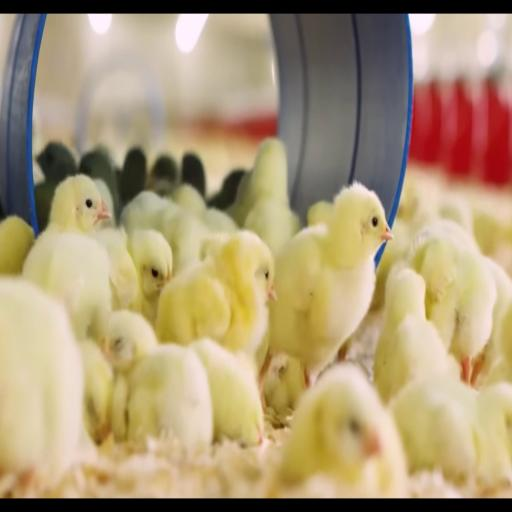chick: (268, 183, 392, 385), (280, 364, 407, 497), (156, 231, 275, 355), (390, 376, 511, 485), (412, 237, 497, 383), (374, 268, 457, 402), (113, 345, 213, 454), (390, 376, 478, 482), (190, 339, 263, 446), (101, 311, 157, 440), (228, 138, 289, 226), (475, 257, 511, 376), (128, 230, 173, 324), (91, 228, 141, 310), (160, 202, 211, 275), (49, 174, 110, 234), (371, 219, 410, 310), (101, 311, 158, 373), (79, 340, 113, 443), (478, 383, 511, 486), (244, 199, 301, 255), (406, 220, 479, 261), (79, 150, 120, 219), (264, 354, 305, 416), (120, 191, 173, 234), (37, 143, 77, 184), (119, 148, 146, 206), (208, 170, 246, 210), (148, 155, 179, 196), (34, 182, 58, 232), (171, 184, 206, 216), (202, 208, 238, 233), (200, 232, 231, 261), (94, 179, 115, 213)
